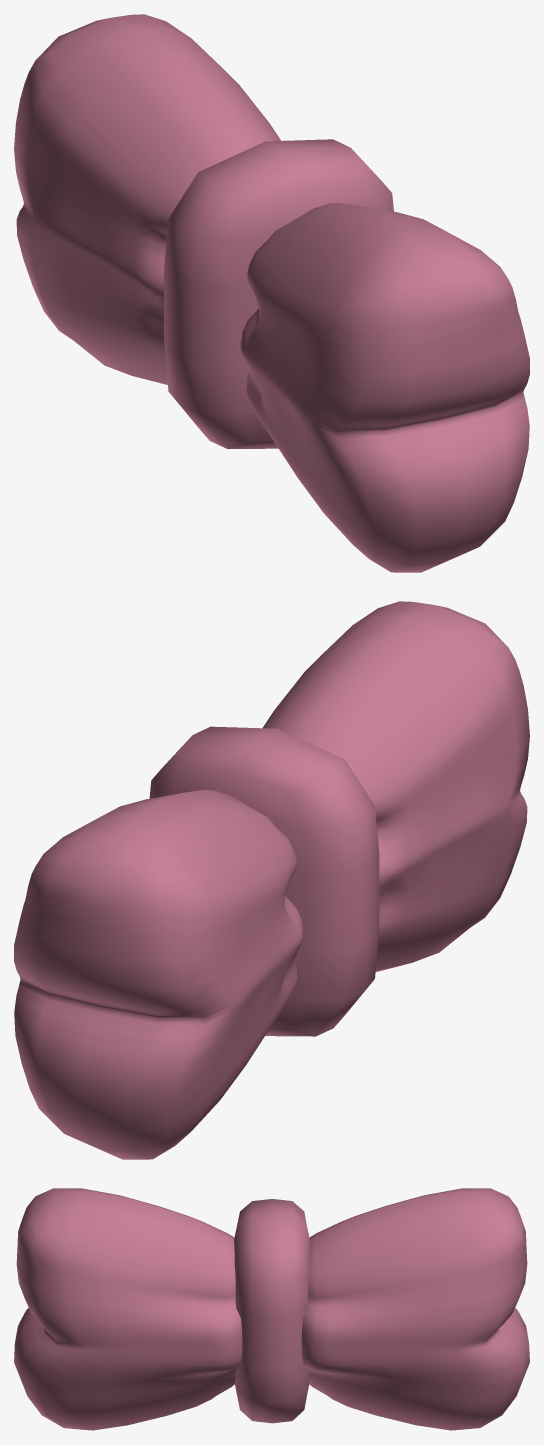
Rendered from noeud de papillon .fbx.
The picture shows the model from 3 angles, top to bottom: view 1: azimuth 30°, elevation 25°; view 2: azimuth 150°, elevation 25°; view 3: azimuth 270°, elevation 25°; orthographic projection. The views are drawn at different scales.
Parts seen in each view (by area): view 1: Cube.015; view 2: Cube.015; view 3: Cube.015.
Part boxes in pixels (box(x1,y1,x2,y2)): Cube.015: box(14, 14, 529, 572); Cube.015: box(14, 601, 529, 1159); Cube.015: box(14, 1188, 529, 1430).
Size of the model in its own units: 5.1 by 7.8 by 15.61.
